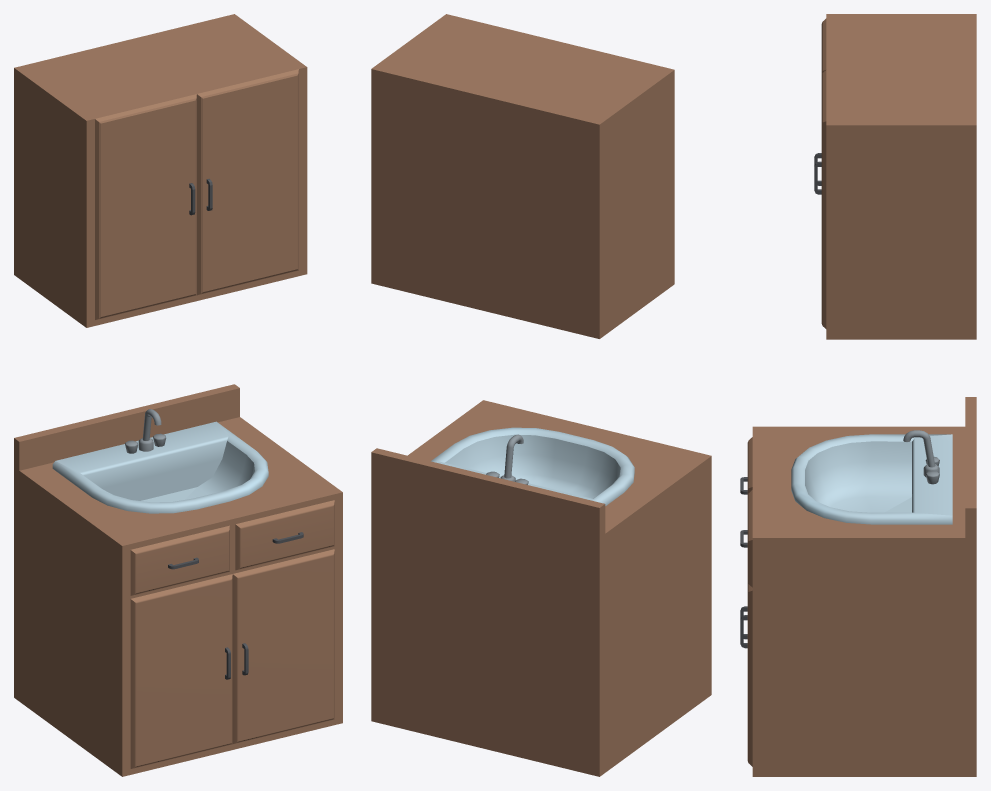
Rendered from LAVANDINO_CUCINA.fbx.
The picture shows the model from 3 angles, left to right: view 1: azimuth 30°, elevation 25°; view 2: azimuth 150°, elevation 25°; view 3: azimuth 270°, elevation 25°; orthographic projection. The views are drawn at different scales.
Parts seen in each view (by area): view 1: Lavandino_Cucina; view 2: Lavandino_Cucina; view 3: Lavandino_Cucina.
Boxes of the visible parts, left/top/right/bottom form: Lavandino_Cucina: left=14, top=14, right=342, bottom=776; Lavandino_Cucina: left=371, top=14, right=711, bottom=776; Lavandino_Cucina: left=740, top=14, right=976, bottom=776.
Bounding box in the file's own units: 2 × 5.46 × 1.79.
